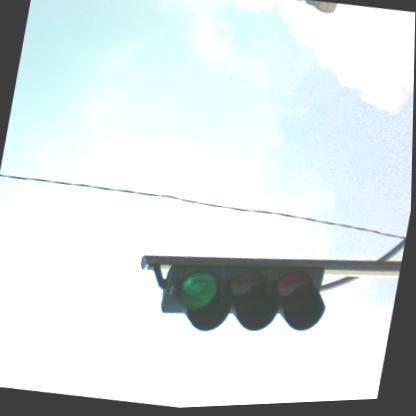green: (155, 246, 331, 352)
